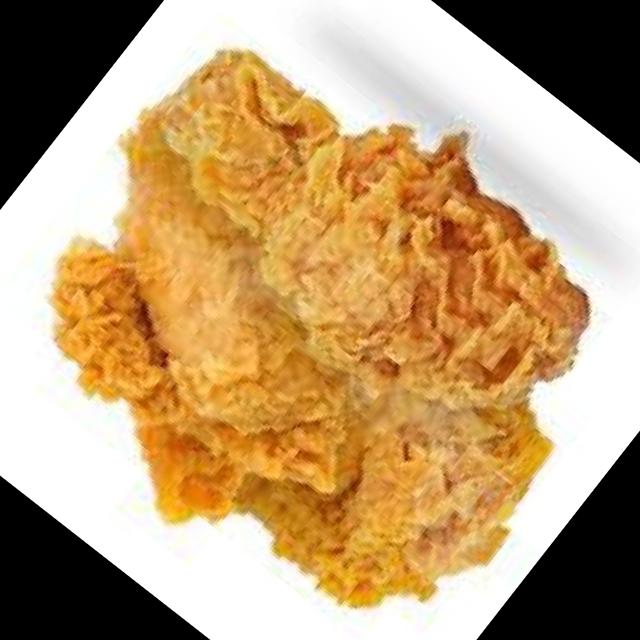Fried Chicken: (48, 45, 593, 611)
